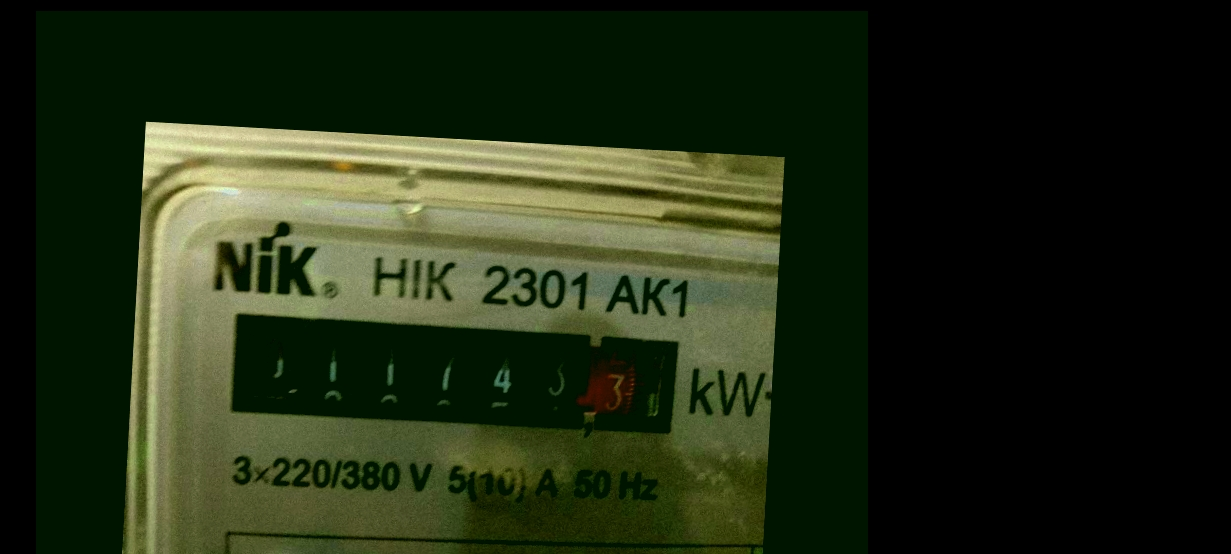0: (258, 333, 290, 382)
1: (378, 341, 401, 390), (323, 338, 343, 387)
3: (542, 352, 572, 400), (601, 369, 627, 414)
4: (488, 348, 518, 397)
7: (434, 346, 460, 395)
screen: (214, 303, 686, 447)
